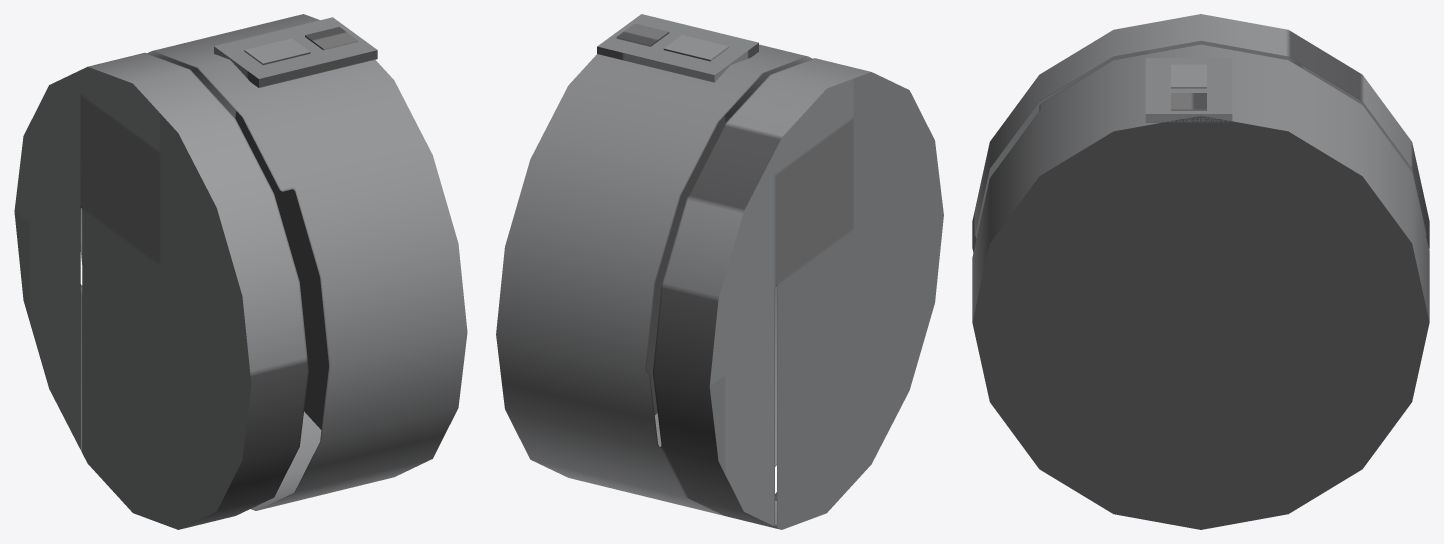
The picture shows the model from 3 angles, left to right: view 1: azimuth 30°, elevation 25°; view 2: azimuth 150°, elevation 25°; view 3: azimuth 270°, elevation 25°; orthographic projection. The views are drawn at different scales.
Size of the model in its own units: 1 by 1.91 by 1.9.
